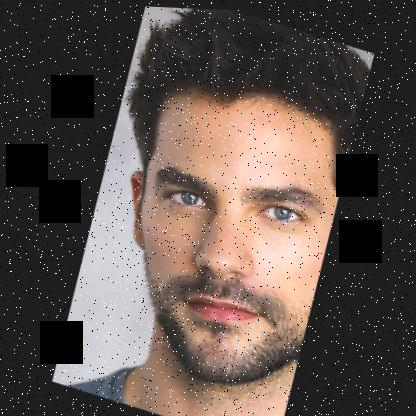Male: (80, 54, 360, 404)
